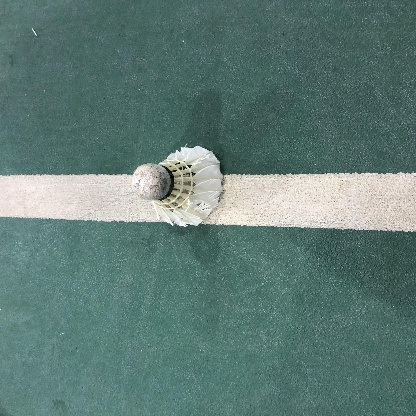ball_single: (132, 146, 223, 227)
